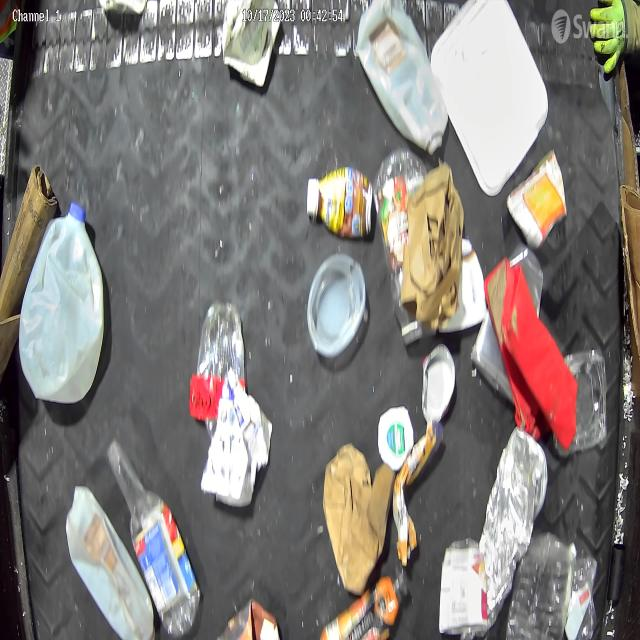milk-jug: (22, 202, 108, 410)
